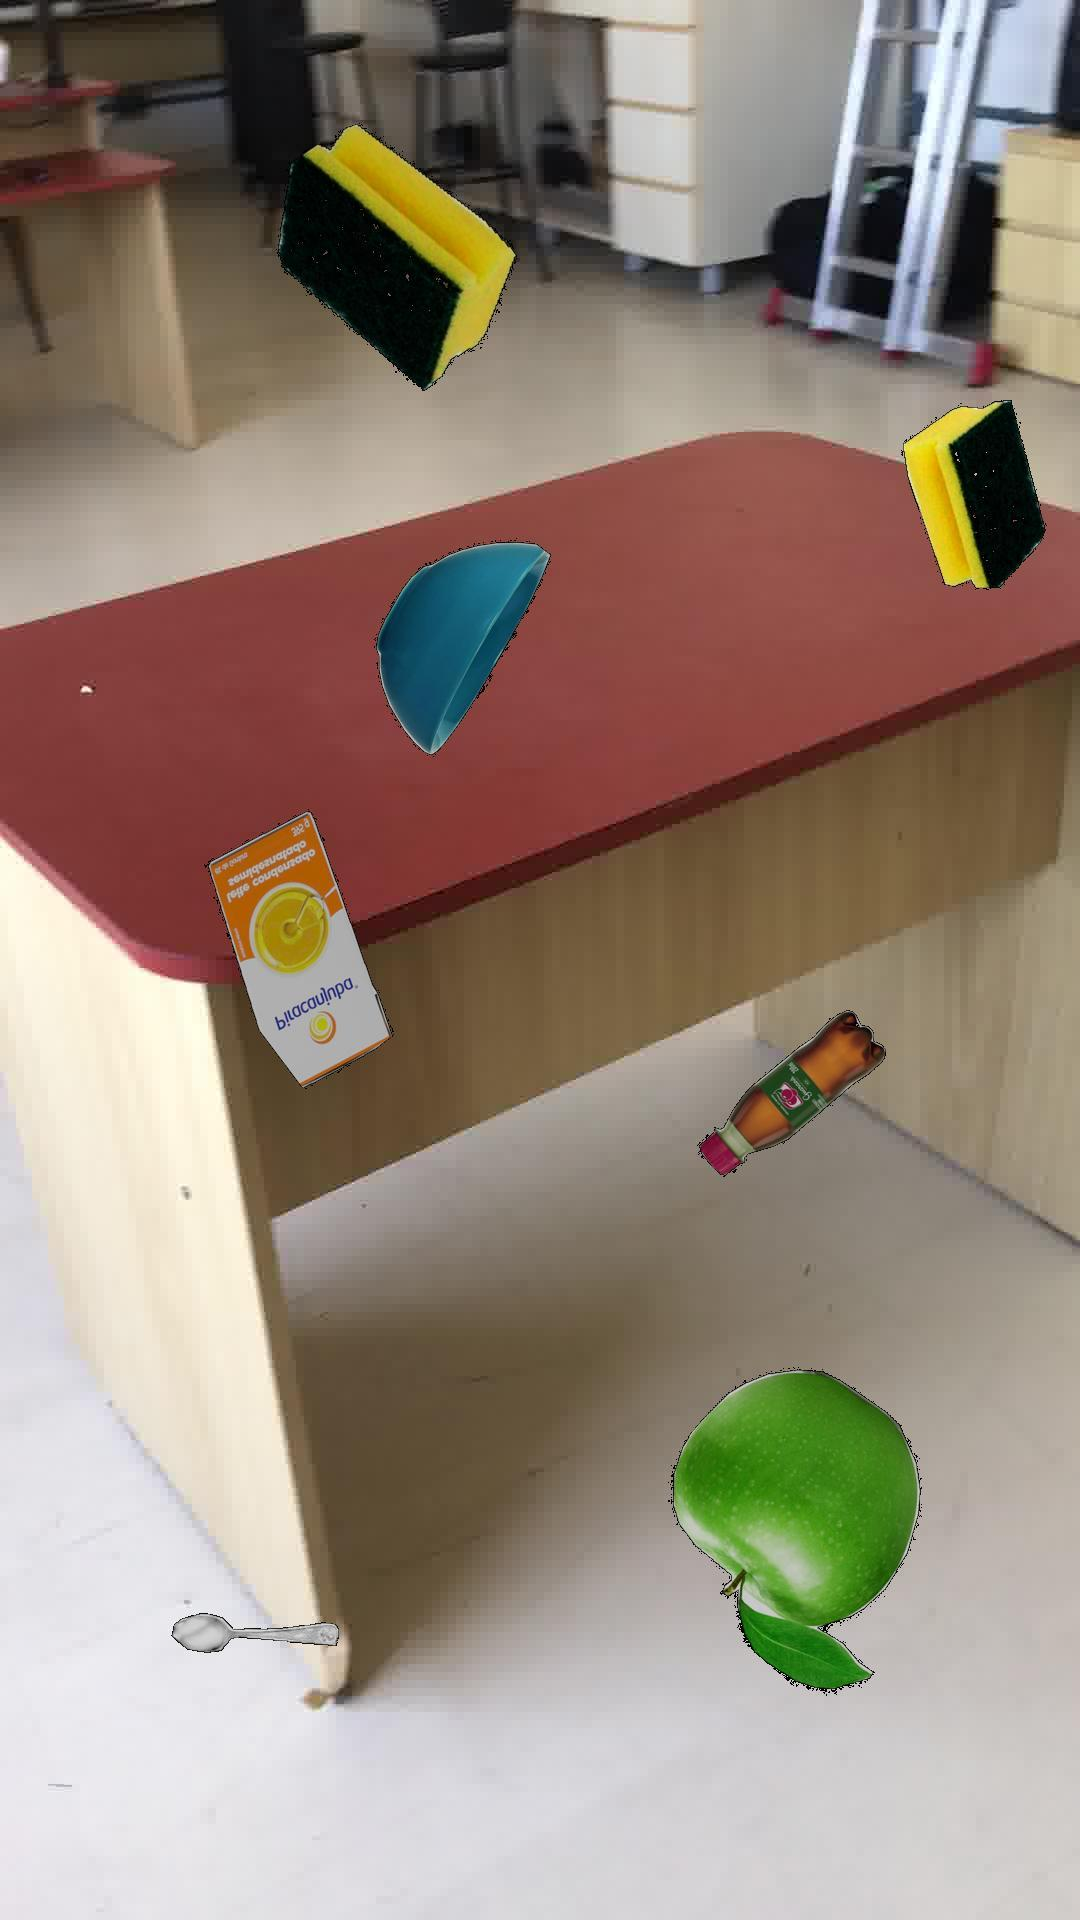bowl: (375, 539, 550, 753)
green apple: (670, 1367, 920, 1691)
guarana: (698, 1009, 885, 1175)
sponge: (276, 123, 516, 389), (899, 398, 1044, 588)
spoon: (170, 1611, 338, 1651)
